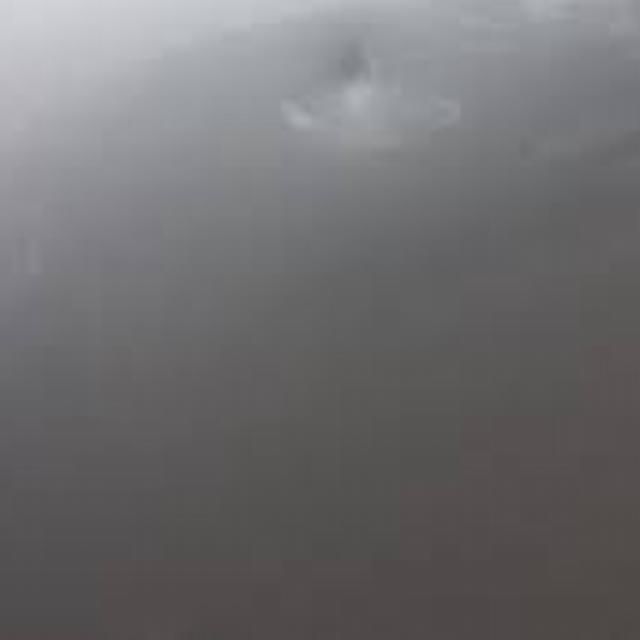dents: (278, 42, 458, 174)
